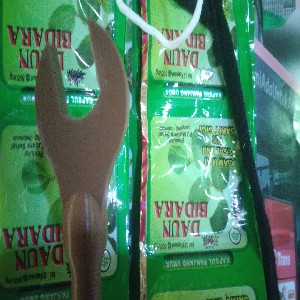spanner: (33, 16, 130, 300)
